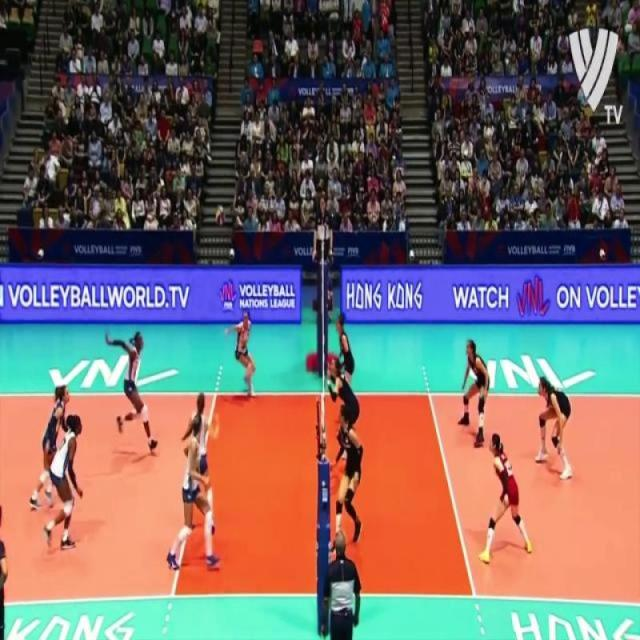volleyball: (214, 206, 227, 224)
